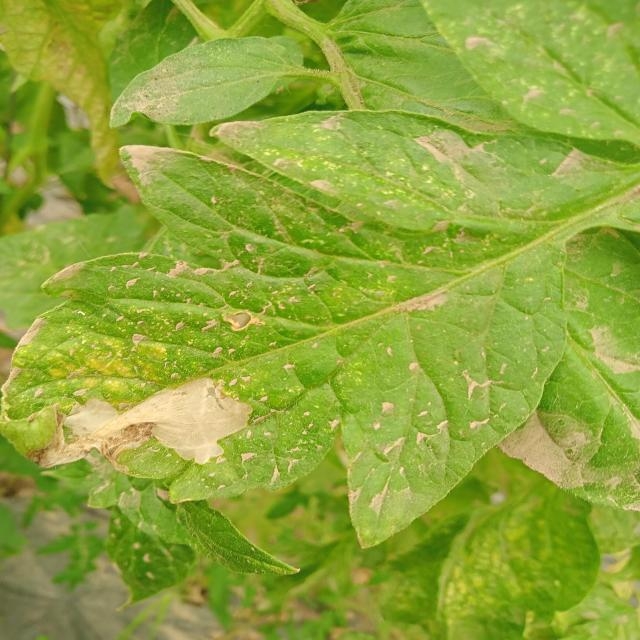Tuta absoluta: (33, 376, 255, 470)
